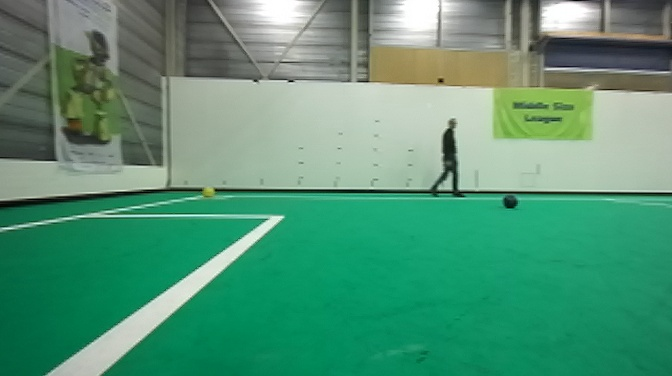ball: (501, 191, 521, 211), (201, 183, 218, 200)
human: (427, 118, 466, 200)
